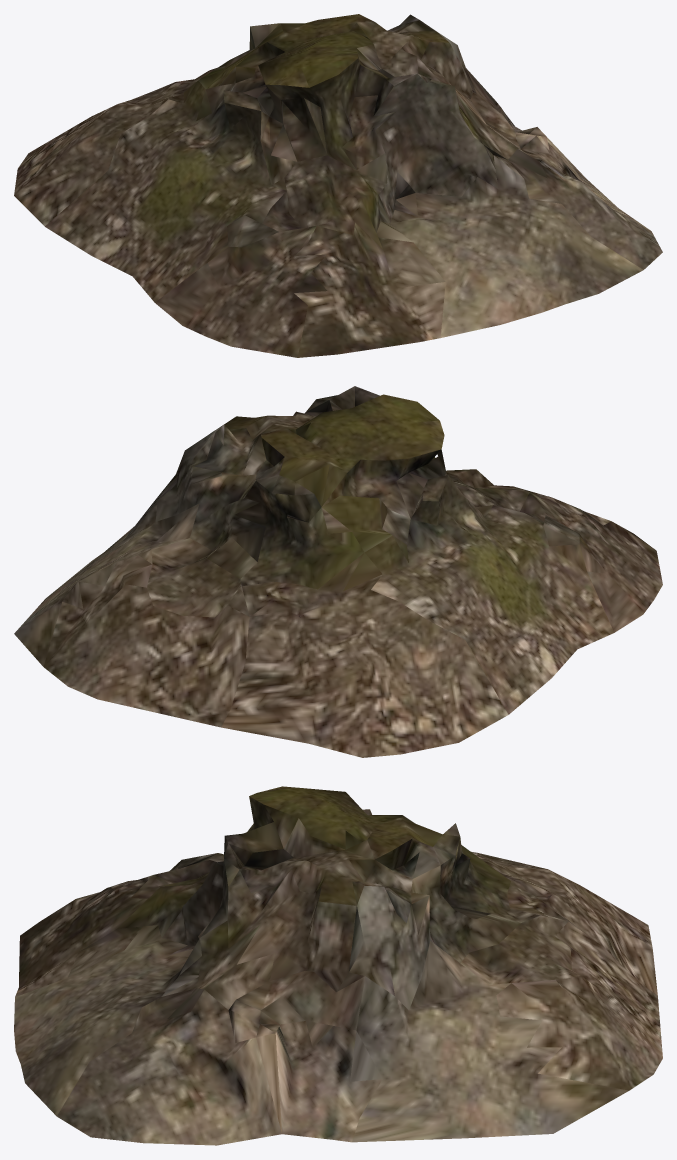
Rendered from stump-BHwqUbT1.glb.
3 renders of one model, top to bottom at view 1: azimuth 30°, elevation 25°; view 2: azimuth 150°, elevation 25°; view 3: azimuth 270°, elevation 25°, orthographic. The views are drawn at different scales.
Visible parts, largest first — view 1: stump; view 2: stump; view 3: stump.
Part boxes in pixels (x1,y1,x2,y2): stump: (14, 14, 662, 357); stump: (14, 386, 662, 757); stump: (14, 786, 662, 1145).
Bounding box in the file's own units: 0.9867 × 0.3974 × 1.1.
Materials: 1 (1 with a texture image).
